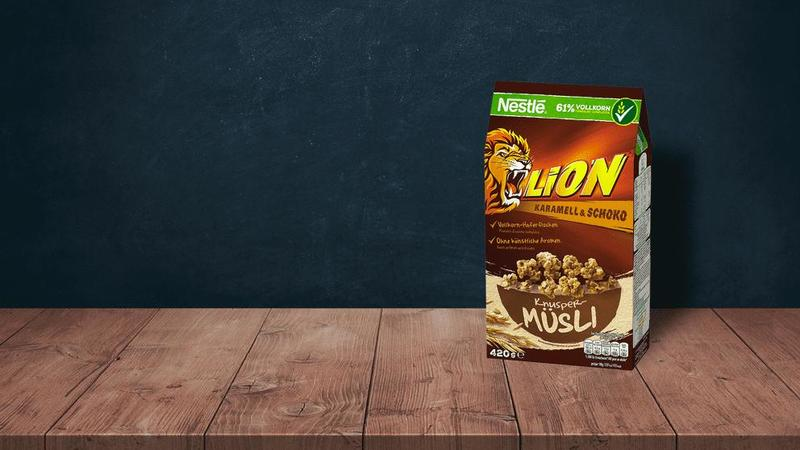cereals: (486, 79, 653, 373)
